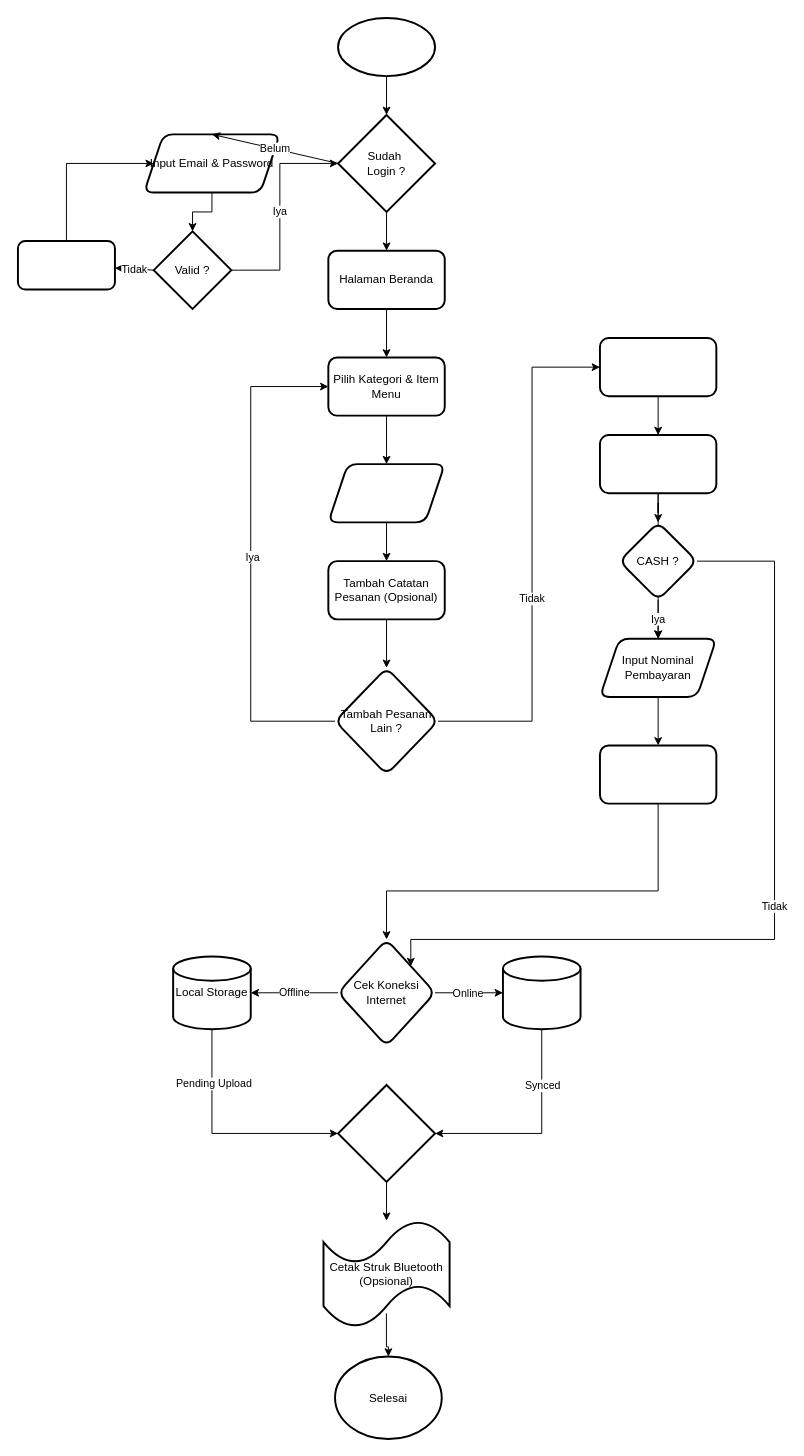
This 804x1456 diagram has some shape labels left out. The centre of each missing label's shape, as x and y in pixels:
"Hitung Kembalian" goes at (x=657, y=774).
"Input Jumlah Pesanan" goes at (x=386, y=493).
"Mulai" goes at (x=386, y=46).
"Pilih Metode Pembayaran" goes at (x=657, y=367).
"Supabase" goes at (x=541, y=992).
"Tampilkan Pesan Error" goes at (x=65, y=265).
"Tampilkan Ringkasan & Total Harga" goes at (x=657, y=464).
